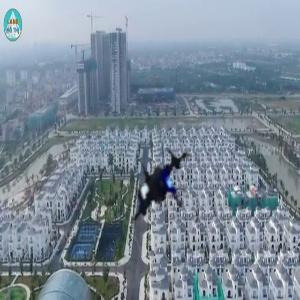drone: (114, 147, 210, 243)
